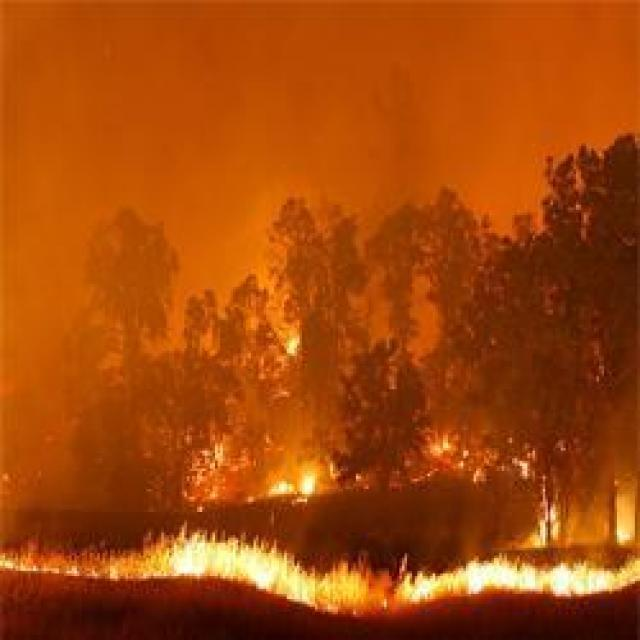Fire: (117, 477, 639, 640)
Smoke: (0, 0, 408, 450)
